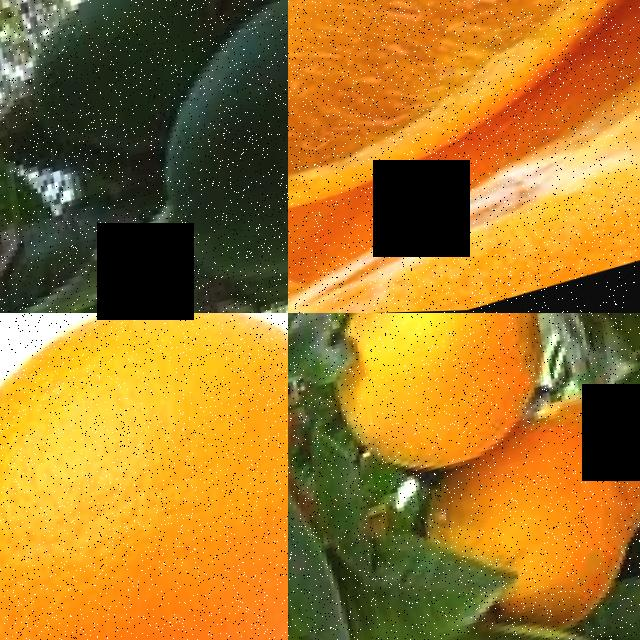orange: (0, 313, 288, 640), (288, 55, 640, 313), (288, 0, 640, 243), (425, 408, 640, 640), (303, 313, 581, 485)
pawpaw: (118, 0, 288, 313), (0, 0, 288, 131)
